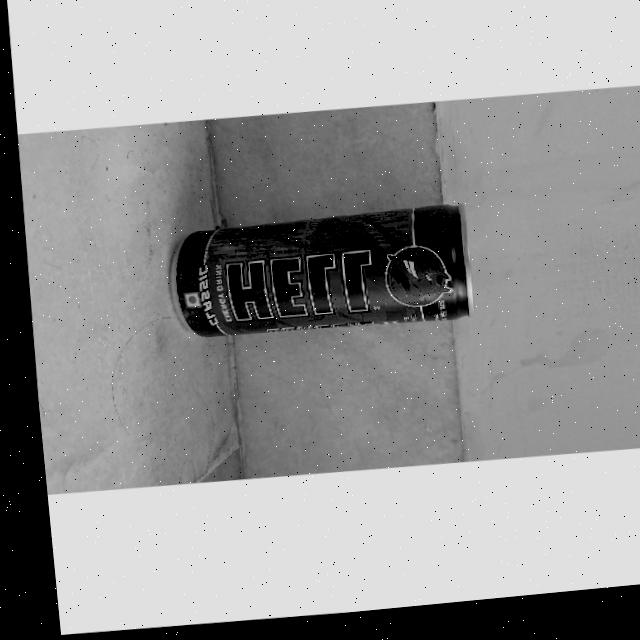Hell Classic: (153, 205, 474, 364)
